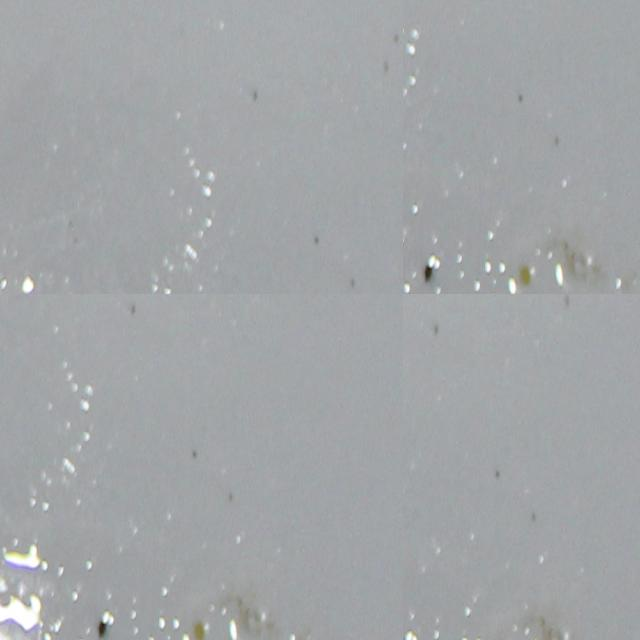fish: (403, 558, 640, 640)
